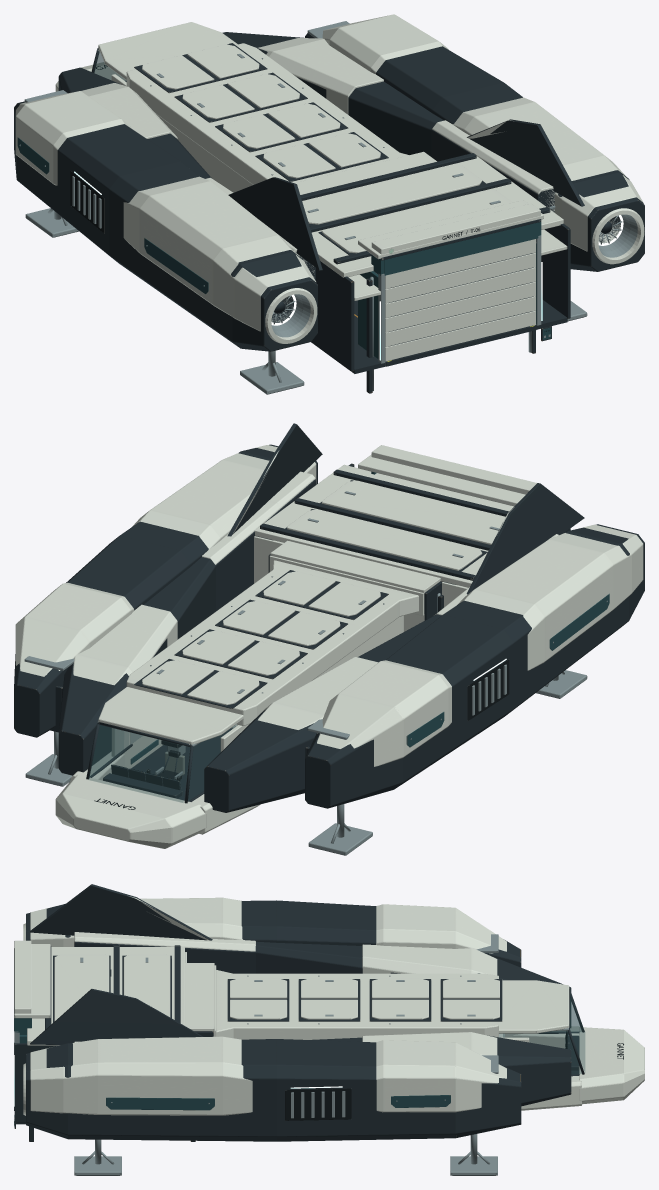
File: gannet.glb
3 views of the same model, one above another, from view 1: azimuth 30°, elevation 25°; view 2: azimuth 150°, elevation 25°; view 3: azimuth 270°, elevation 25° (orthographic). The views are drawn at different scales.
Parts seen in each view (by area): view 1: OuterHull / Gannet / original Meridian PBR Geometry, Cabin / Gannet / original Meridian PBR Geometry, HatchSlat_1 / Gannet / original Meridian PBR Geometry, HatchSlat_2 / Gannet / original Meridian PBR Geometry, HatchSlat_3 / Gannet / original Meridian PBR Geometry, HatchSlat_4 / Gannet / original Meridian PBR Geometry, HatchSlat_5 / Gannet / original Meridian PBR Geometry, HatchSlat_6 / Gannet / original Meridian PBR Geometry, Gear_Port_Aft / Gannet / original Meridian PBR Geometry, LiftDeck Geometry, Gear_Port_Fore / Gannet / original Meridian PBR Geometry, OuterHull / Gannet restrained mint emitters Geometry; view 2: OuterHull / Gannet / original Meridian PBR Geometry, Cabin / Gannet pressure glazing Geometry, Cabin / Gannet / original Meridian PBR Geometry, CabinFloor Geometry, Gear_Port_Fore / Gannet / original Meridian PBR Geometry, Gear_Starboard_Fore / Gannet / original Meridian PBR Geometr, Gear_Port_Aft / Gannet / original Meridian PBR Geometry; view 3: OuterHull / Gannet / original Meridian PBR Geometry, Cabin / Gannet pressure glazing Geometry, Cabin / Gannet / original Meridian PBR Geometry, Gear_Starboard_Fore / Gannet / original Meridian PBR Geometr, Gear_Starboard_Aft / Gannet / original Meridian PBR Geometry.
Boxes of the visible parts, bbox=[...] form: OuterHull / Gannet / original Meridian PBR Geometry: bbox=[14, 14, 644, 393]; Cabin / Gannet / original Meridian PBR Geometry: bbox=[91, 48, 567, 373]; HatchSlat_1 / Gannet / original Meridian PBR Geometry: bbox=[385, 310, 535, 361]; HatchSlat_2 / Gannet / original Meridian PBR Geometry: bbox=[385, 296, 535, 346]; HatchSlat_3 / Gannet / original Meridian PBR Geometry: bbox=[385, 281, 535, 332]; HatchSlat_4 / Gannet / original Meridian PBR Geometry: bbox=[385, 267, 535, 318]; HatchSlat_5 / Gannet / original Meridian PBR Geometry: bbox=[385, 253, 535, 303]; HatchSlat_6 / Gannet / original Meridian PBR Geometry: bbox=[385, 239, 535, 289]; Gear_Port_Aft / Gannet / original Meridian PBR Geometry: bbox=[240, 350, 304, 394]; LiftDeck Geometry: bbox=[354, 271, 536, 366]; Gear_Port_Fore / Gannet / original Meridian PBR Geometry: bbox=[25, 208, 78, 237]; OuterHull / Gannet restrained mint emitters Geometry: bbox=[74, 171, 623, 360]; OuterHull / Gannet / original Meridian PBR Geometry: bbox=[14, 423, 644, 848]; Cabin / Gannet pressure glazing Geometry: bbox=[88, 725, 235, 802]; Cabin / Gannet / original Meridian PBR Geometry: bbox=[86, 554, 442, 803]; CabinFloor Geometry: bbox=[131, 728, 231, 800]; Gear_Port_Fore / Gannet / original Meridian PBR Geometry: bbox=[308, 804, 372, 855]; Gear_Starboard_Fore / Gannet / original Meridian PBR Geometr: bbox=[25, 731, 72, 786]; Gear_Port_Aft / Gannet / original Meridian PBR Geometry: bbox=[536, 670, 587, 698]; OuterHull / Gannet / original Meridian PBR Geometry: bbox=[14, 884, 644, 1141]; Cabin / Gannet pressure glazing Geometry: bbox=[503, 995, 585, 1073]; Cabin / Gannet / original Meridian PBR Geometry: bbox=[14, 969, 584, 1124]; Gear_Starboard_Fore / Gannet / original Meridian PBR Geometr: bbox=[450, 1134, 497, 1175]; Gear_Starboard_Aft / Gannet / original Meridian PBR Geometry: bbox=[74, 1139, 121, 1175].
Bounding box in the file's own units: 15.68 × 7.19 × 24.
7 materials, 2 textured.
